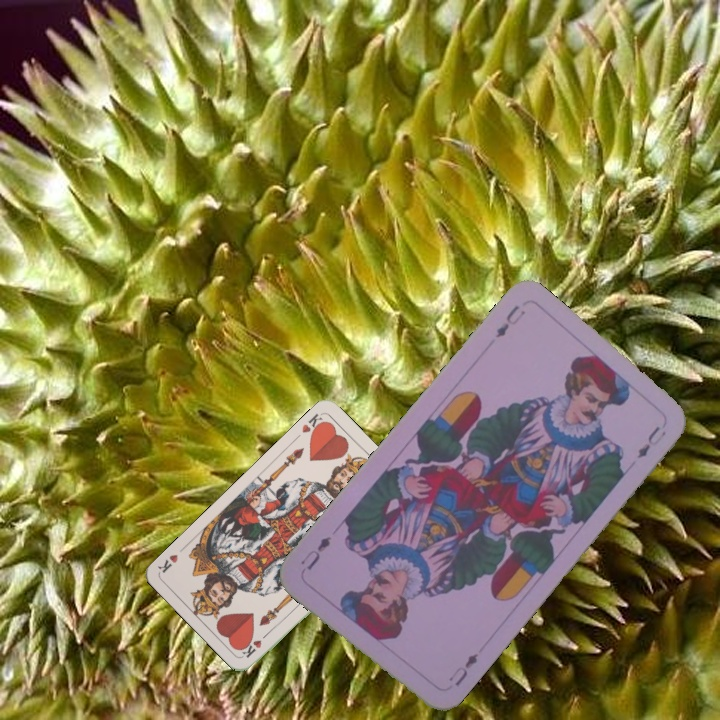EU: (491, 300, 529, 341), (444, 649, 481, 689)
HK: (238, 627, 273, 661), (298, 409, 329, 439)
